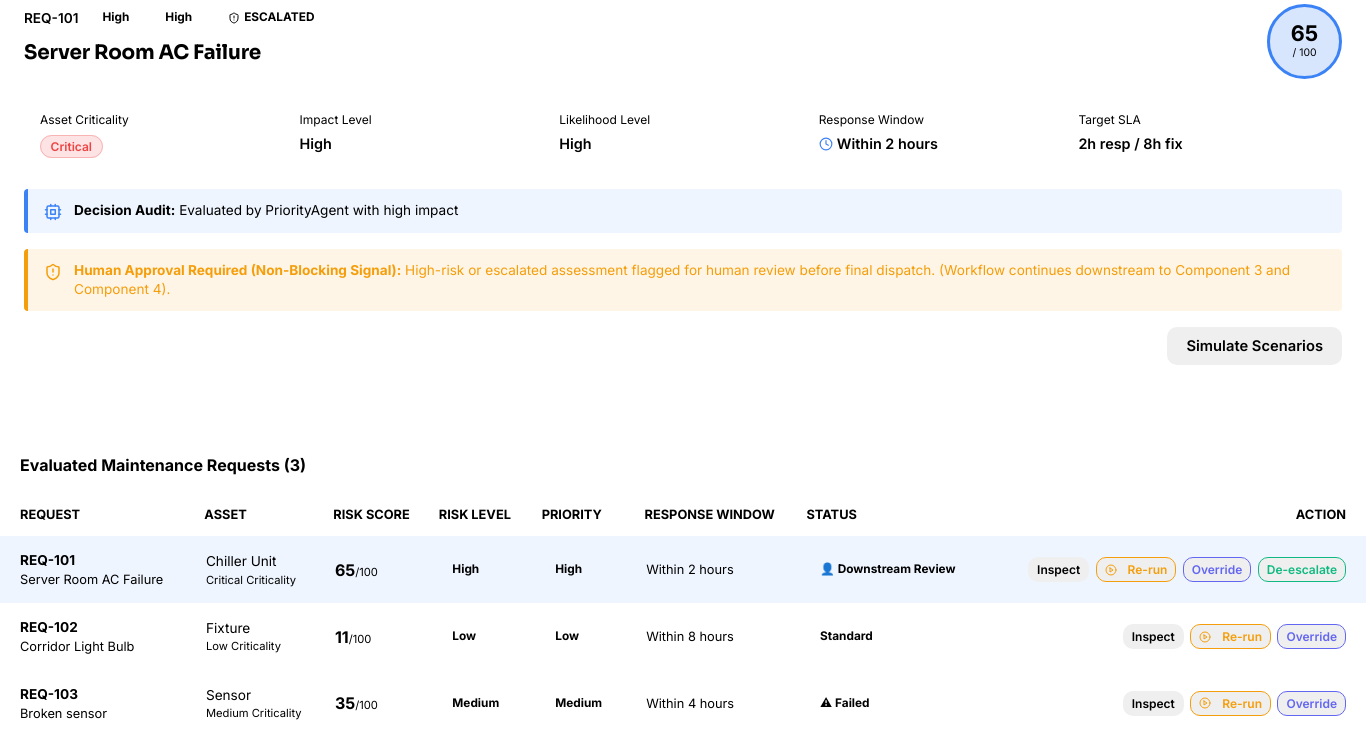
PriorityDashboard Component Workflow & Role Gating › Manager sees the Escalate action for a non-escalated assessment
(page scrolled)
Check: the 1st text "REQ-101" is shown, box [24,8,78,28]
Note: Select the Low, non-escalated assessment (REQ-102)
Step 1. Click the text "REQ-102" → [683, 637], box [0,603,1365,670]
(page scrolled)
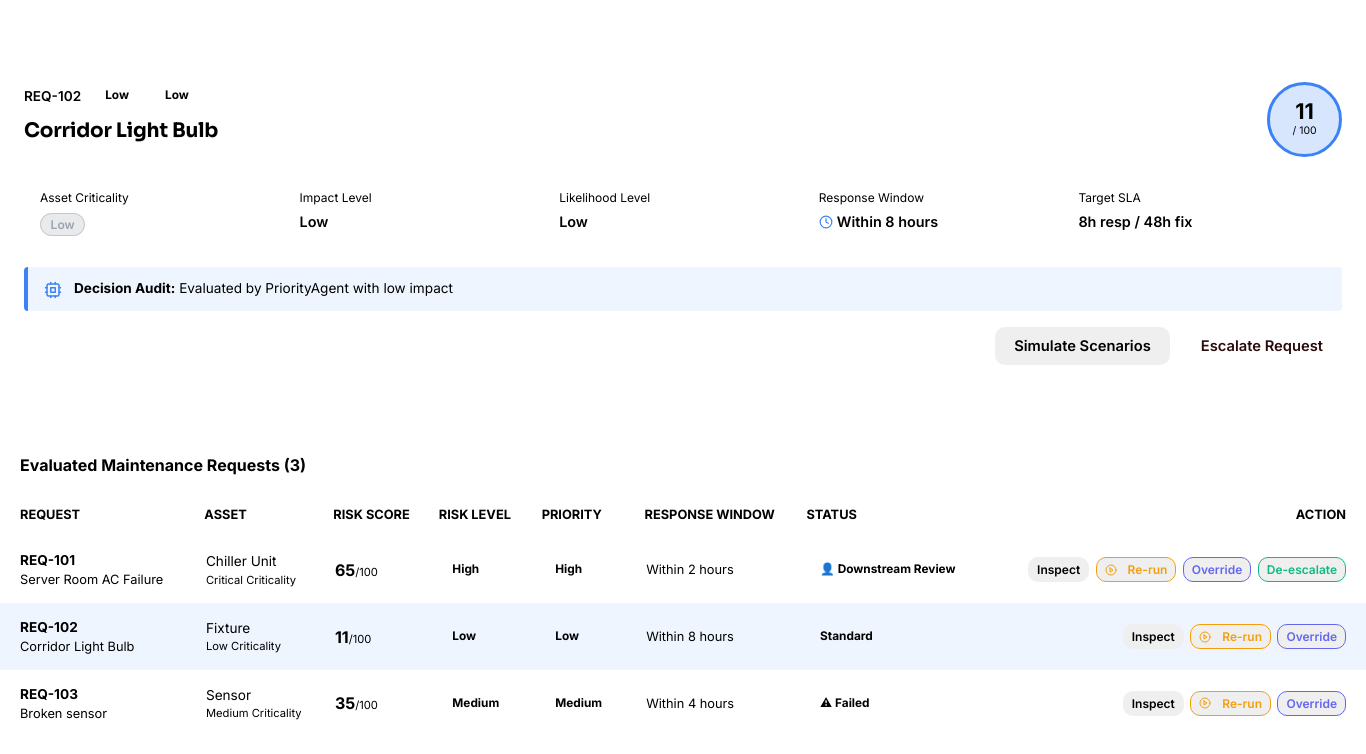
Check: the button "Escalate Request" is shown, box [1182,327,1342,365]
